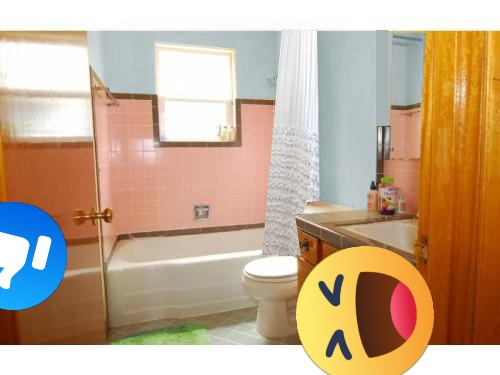haha: (296, 246, 434, 375)
like: (0, 202, 67, 310)
